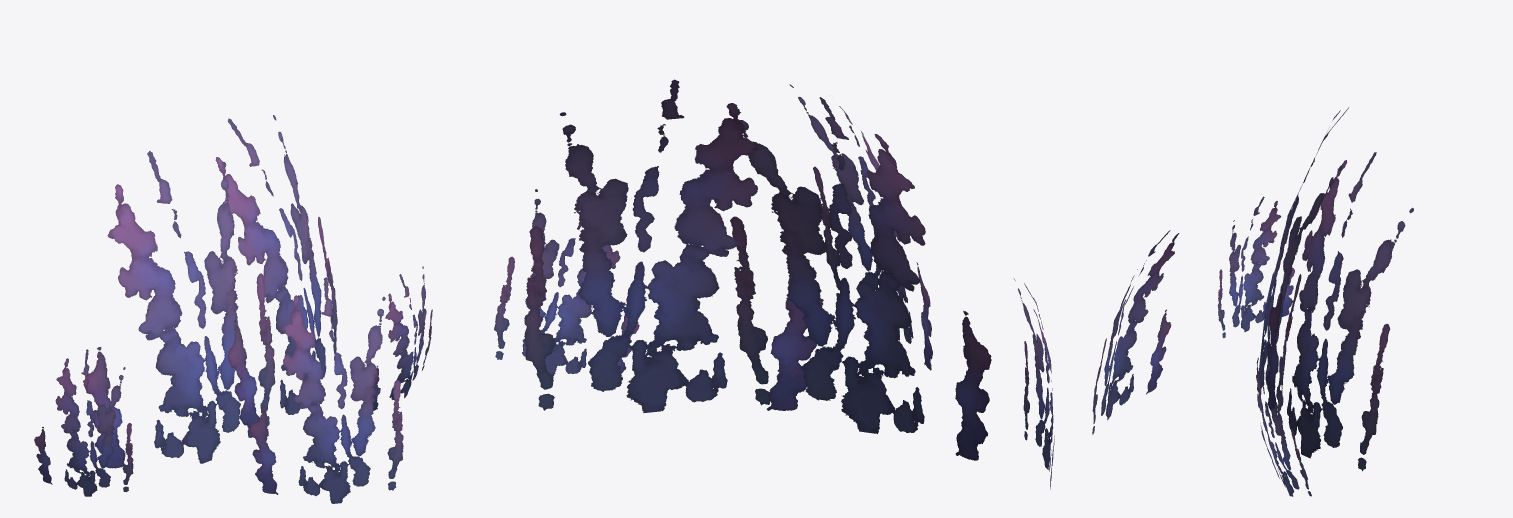
The model's file is MSH_Grass_03.fbx.
3 renders of one model, left to right at view 1: azimuth 30°, elevation 25°; view 2: azimuth 150°, elevation 25°; view 3: azimuth 270°, elevation 25°, orthographic. The views are drawn at different scales.
Parts seen in each view (by area): view 1: GrassStrands_9; view 2: GrassStrands_9; view 3: GrassStrands_9.
Part boxes in pixels (<box>): GrassStrands_9: <box>34,115,432,503</box>; GrassStrands_9: <box>494,79,1054,489</box>; GrassStrands_9: <box>1092,107,1413,496</box>.
Bounding box in the file's own units: 225 × 169 × 196.
